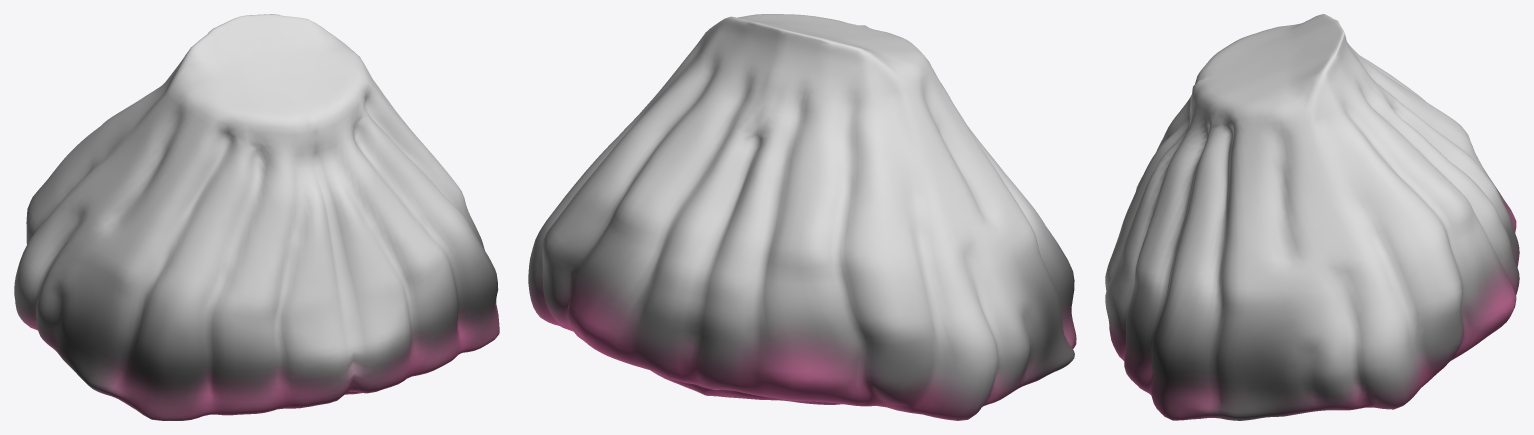
File: frenchPreppy-bottom.fbx
3 renders of one model, left to right at view 1: azimuth 30°, elevation 25°; view 2: azimuth 150°, elevation 25°; view 3: azimuth 270°, elevation 25°, orthographic. The views are drawn at different scales.
Visible parts, largest first — view 1: frenchPreppy-bottom; view 2: frenchPreppy-bottom; view 3: frenchPreppy-bottom.
Boxes of the visible parts, box(x1,y1,x2,y2) form: frenchPreppy-bottom: box(14, 14, 499, 420); frenchPreppy-bottom: box(528, 14, 1076, 420); frenchPreppy-bottom: box(1105, 14, 1519, 420).
Size of the model in its own units: 2.7 by 1.92 by 2.31.
